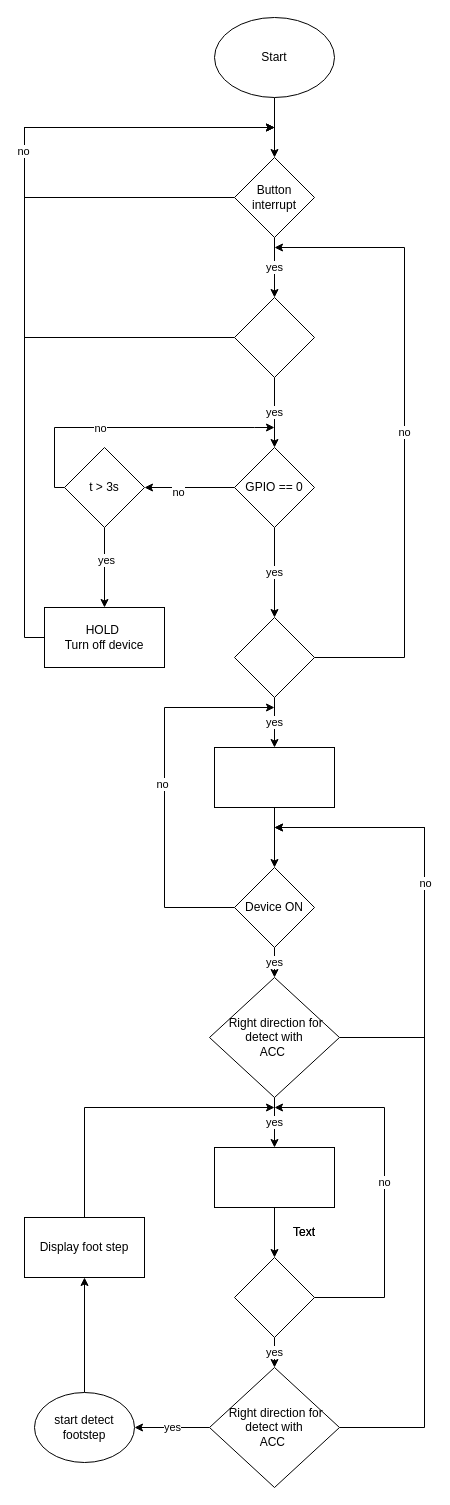
This 450x1505 diagram has some shape labels left out. Here are the shapes that lost their labels. From the top down, the centre of each, then its label:
At (274,337): "Interrupt flag".
At (274,657): "Device OFF".
At (274,777): "Turn on device".
At (274,1177): "Gyroscope get data".
At (274,1297): "Get data is ready".
